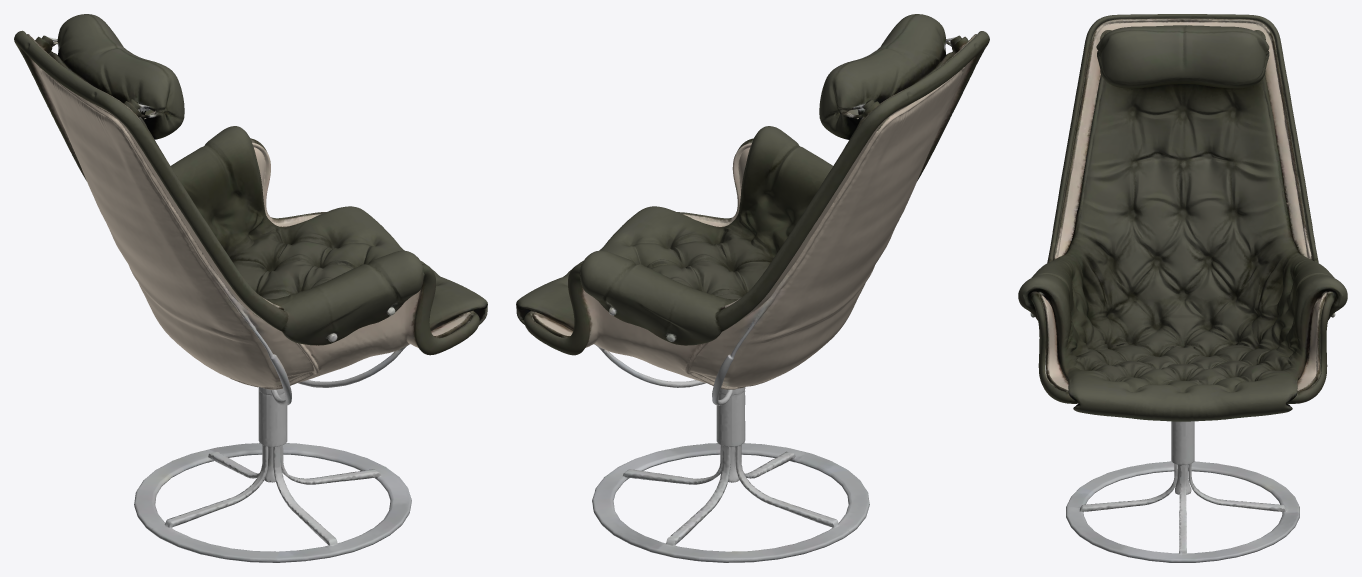
3 renders of one model, left to right at view 1: azimuth 30°, elevation 25°; view 2: azimuth 150°, elevation 25°; view 3: azimuth 270°, elevation 25°, orthographic. The views are drawn at different scales.
Visible parts, largest first — view 1: tripo_node_71613bd2-d49c-4f96-8405-7d56b5c58d6b; view 2: tripo_node_71613bd2-d49c-4f96-8405-7d56b5c58d6b; view 3: tripo_node_71613bd2-d49c-4f96-8405-7d56b5c58d6b.
Boxes of the visible parts, x1,y1,x2,y2 form: tripo_node_71613bd2-d49c-4f96-8405-7d56b5c58d6b: [14, 14, 487, 562]; tripo_node_71613bd2-d49c-4f96-8405-7d56b5c58d6b: [516, 14, 989, 562]; tripo_node_71613bd2-d49c-4f96-8405-7d56b5c58d6b: [1018, 14, 1347, 562].
Bounding box in the file's own units: 0.7801 × 1 × 0.7078.
1 material, 1 textured.
